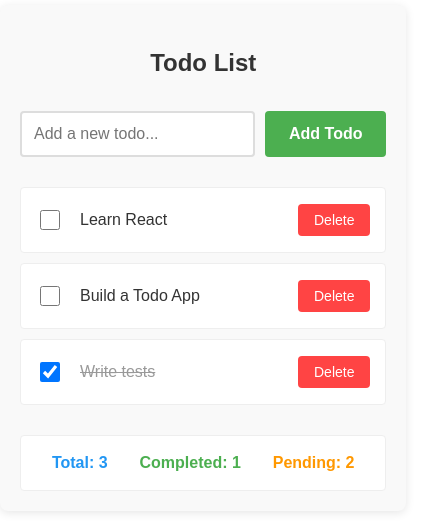
TodoList Component › toggles todo completion status when checkbox is clicked
Expected: the text "Pending: 2" is shown, [273, 451, 354, 475]
Expected: the text "Completed: 1" is shown, [140, 451, 241, 475]
# Click to toggle
Click the checkbox with test id "todo-checkbox-1": (50, 220) [40, 210, 60, 230]
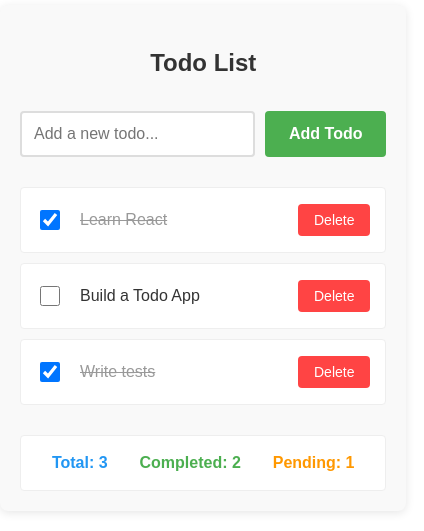
Now the checkbox with test id "todo-checkbox-1" is checked
Now the text "Pending: 1" is shown, box [273, 451, 354, 475]
Now the text "Completed: 2" is shown, box [140, 451, 241, 475]
# Click again to toggle back
Click the checkbox with test id "todo-checkbox-1": (50, 220) [40, 210, 60, 230]
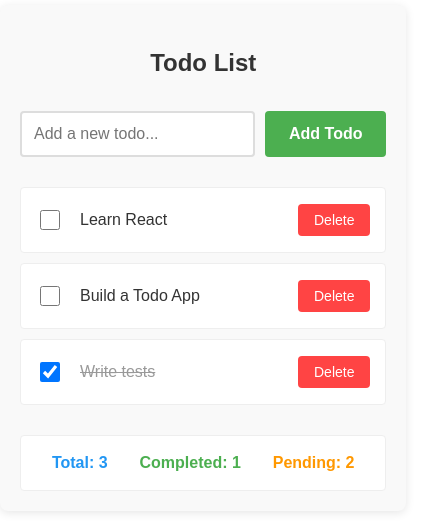
Now the checkbox with test id "todo-checkbox-1" is not checked, box [40, 210, 60, 230]
Now the text "Pending: 2" is shown, box [273, 451, 354, 475]
Now the text "Completed: 1" is shown, box [140, 451, 241, 475]
